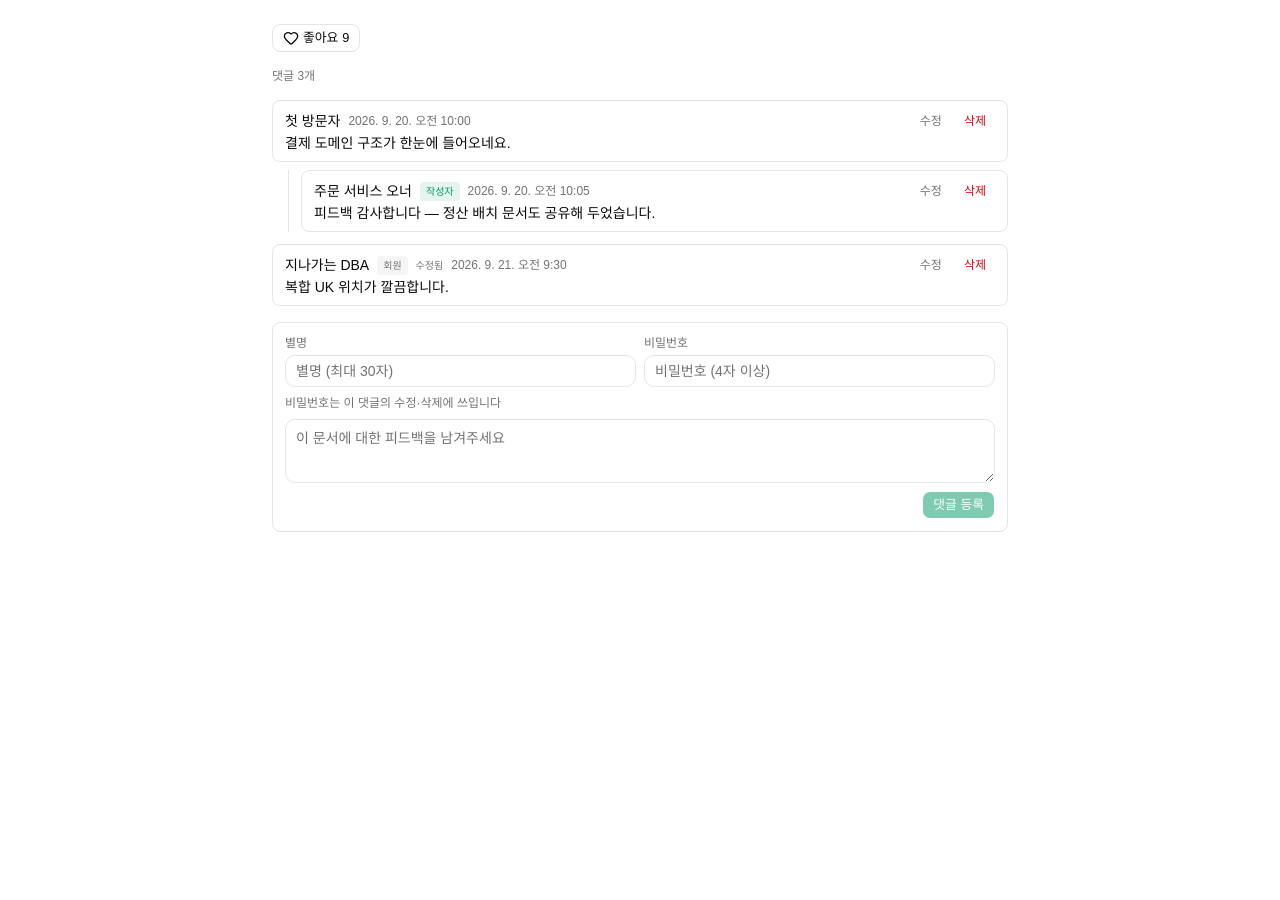
Test case: ShareFeedbackSection — 댓글 수정·삭제(서버 최종 판정) › edits a guest comment inline with its password
Expected: the list with test id "share-comment-list" is shown, left=272, top=100, right=1008, bottom=306
Click the button "수정" in the row of "2026. 9. 20. 오전 10:00": x=931, y=121 left=911, top=109, right=951, bottom=133
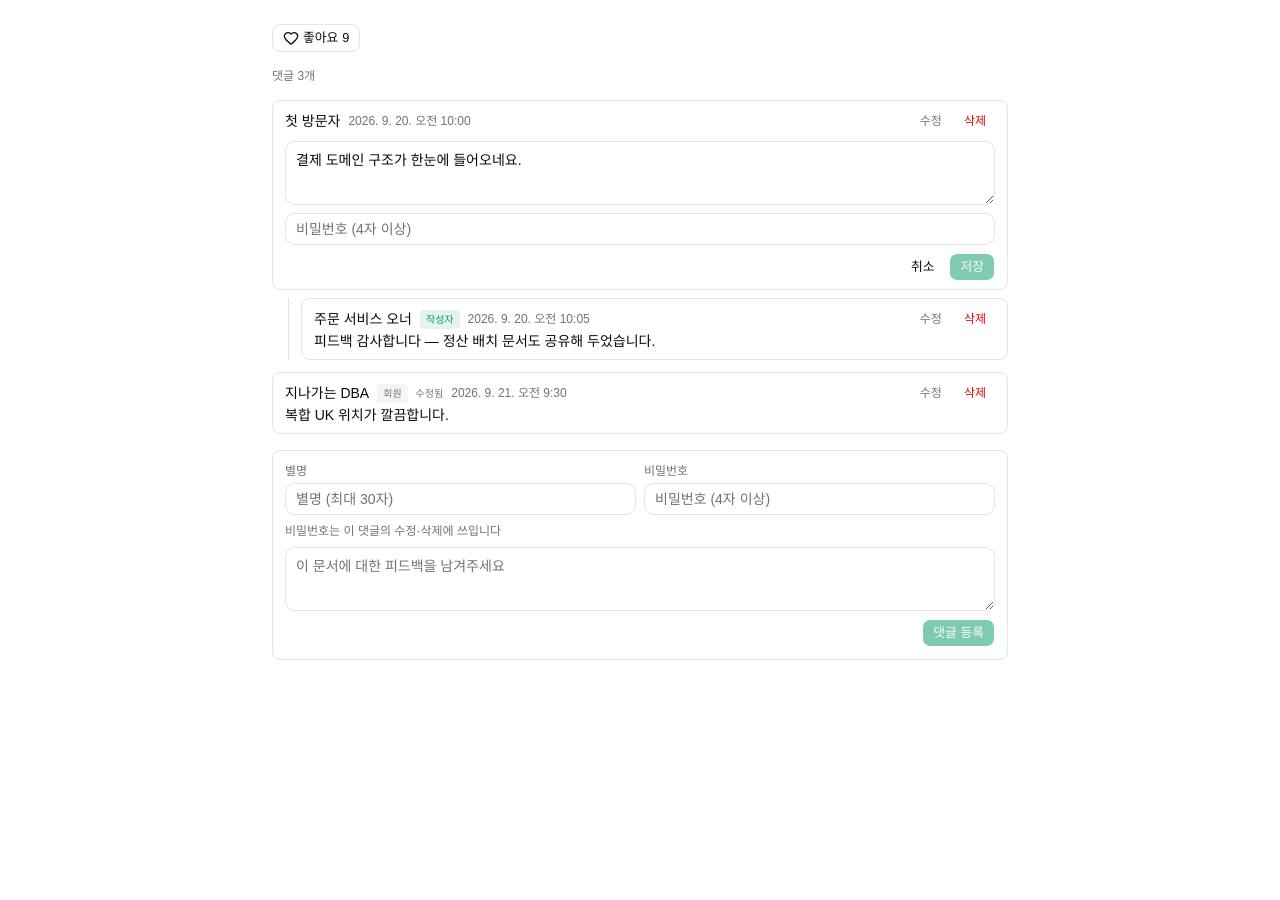
Expected: the password field with test id "share-comment-edit-password" is shown, left=285, top=213, right=995, bottom=245
Replace the text in the text box with test id "share-comment-edit-content" with "고친 내용": x=640, y=173 left=285, top=141, right=995, bottom=205
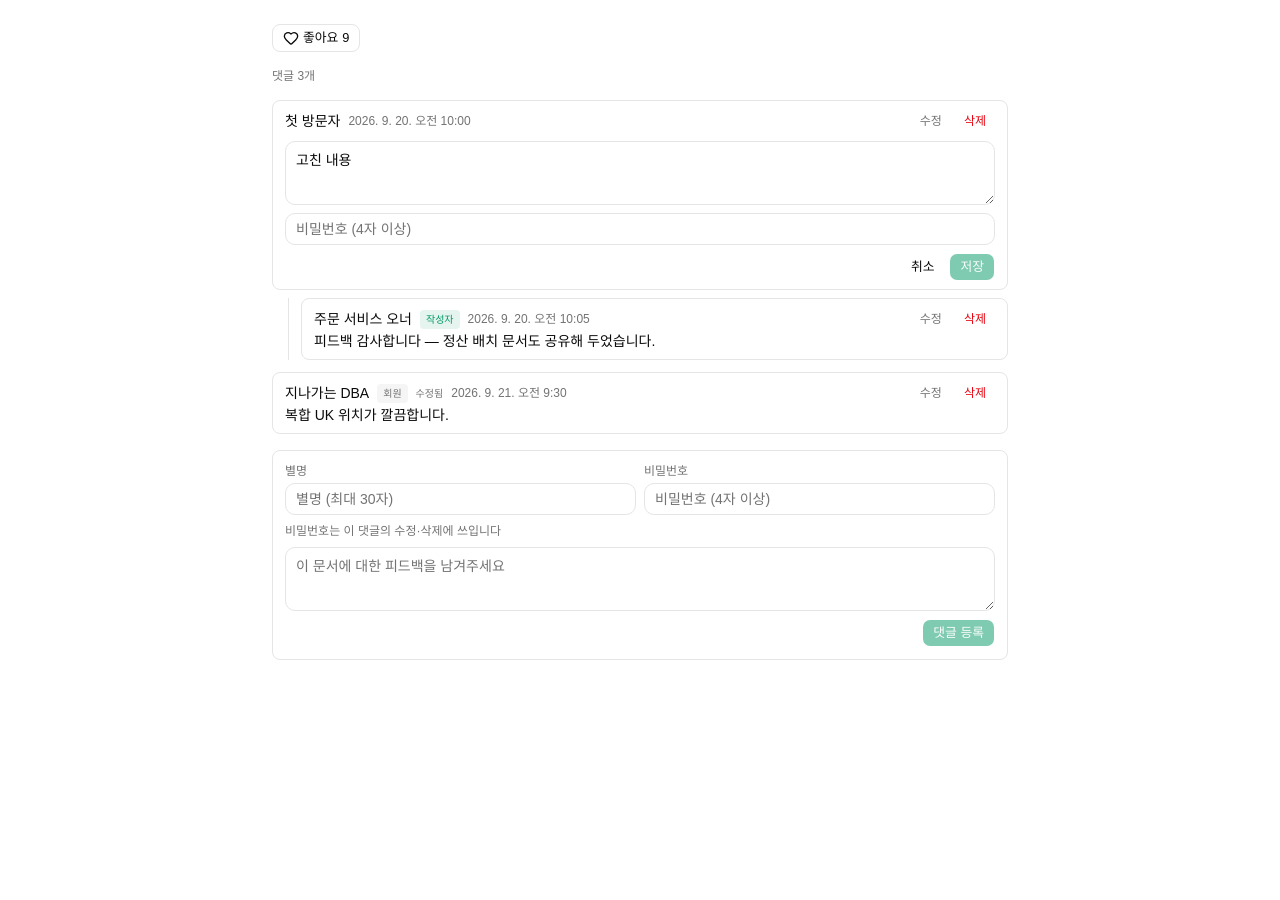
# then: 비밀번호 4자 미만이면 제출 불가
In the password field with test id "share-comment-edit-password": x=640, y=229 left=285, top=213, right=995, bottom=245, type "12"
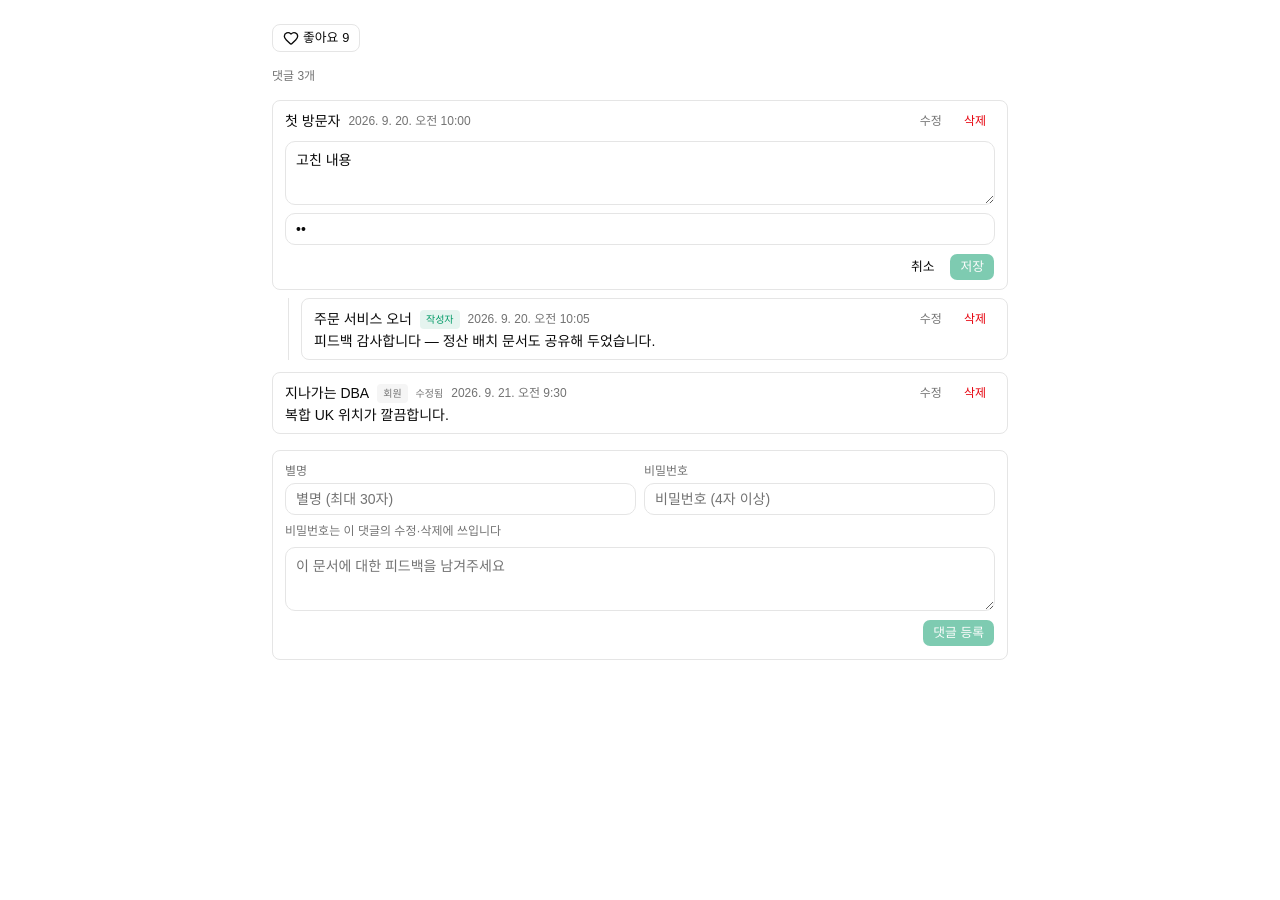
Expected: the button with test id "share-comment-edit-submit" is disabled, left=950, top=253, right=995, bottom=281
In the password field with test id "share-comment-edit-password": x=640, y=229 left=285, top=213, right=995, bottom=245, type "pass1234"
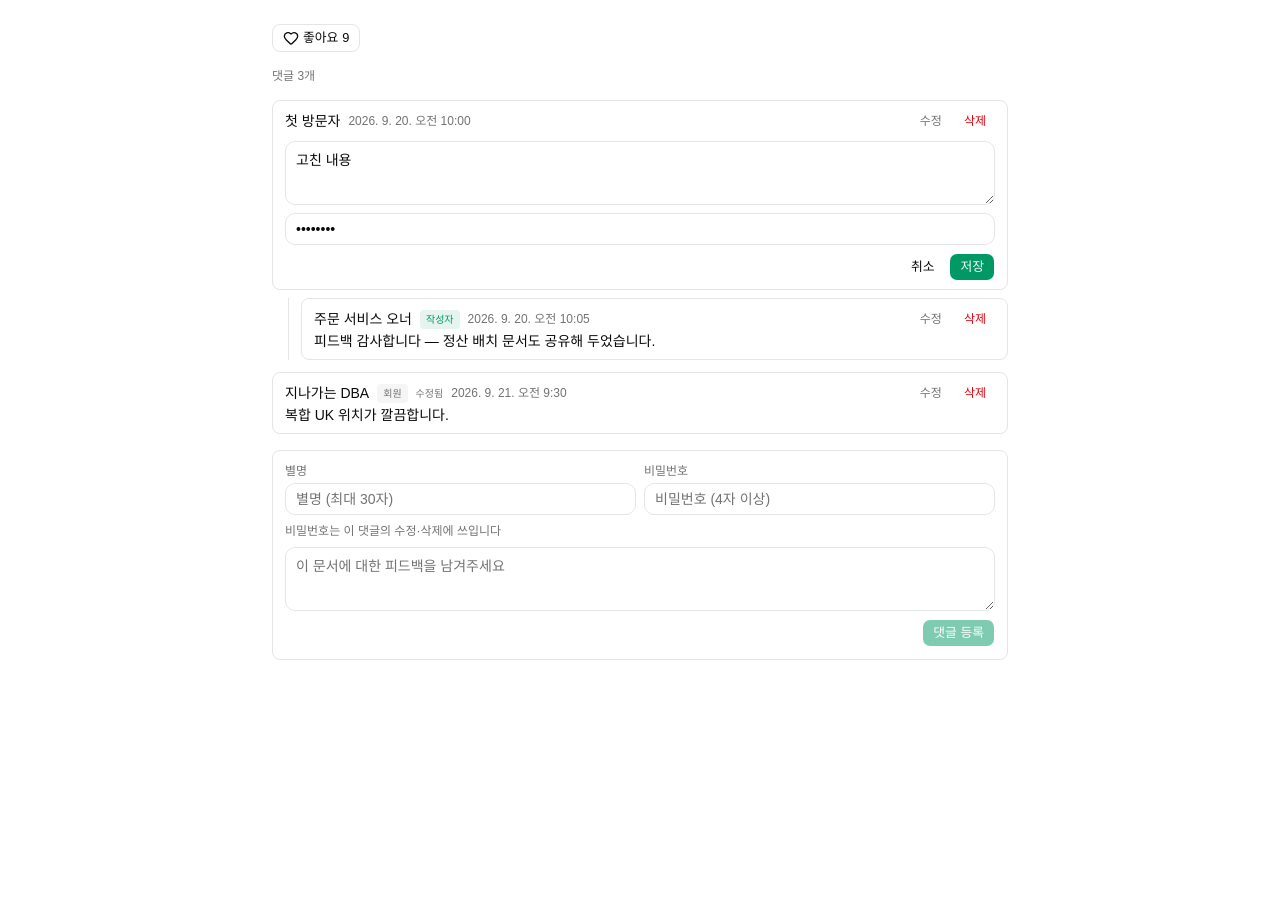
Expected: the button with test id "share-comment-edit-submit" is enabled
Click the button with test id "share-comment-edit-submit": x=972, y=267 left=950, top=253, right=995, bottom=281
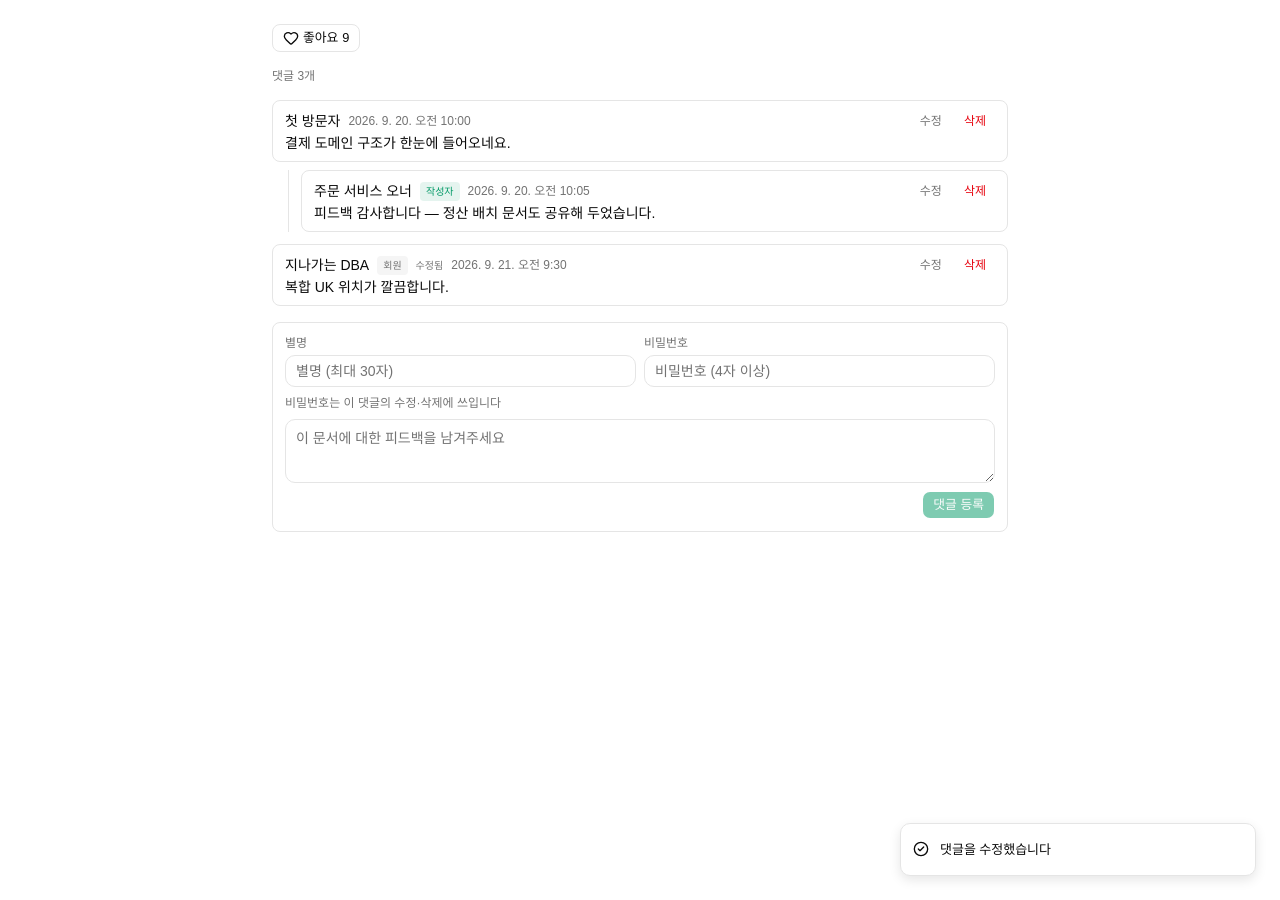
Expected: the text "댓글을 수정했습니다" is shown, left=940, top=840, right=1051, bottom=859
Expected: the element with test id "share-comment-edit-form" is gone
